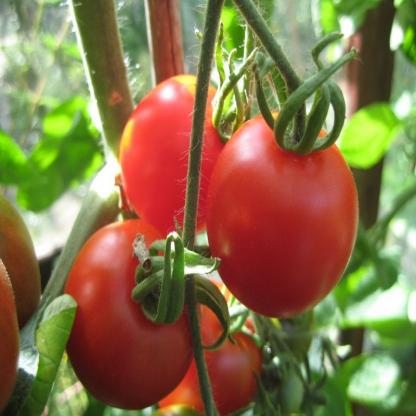---: (201, 111, 372, 325), (58, 218, 203, 411)
